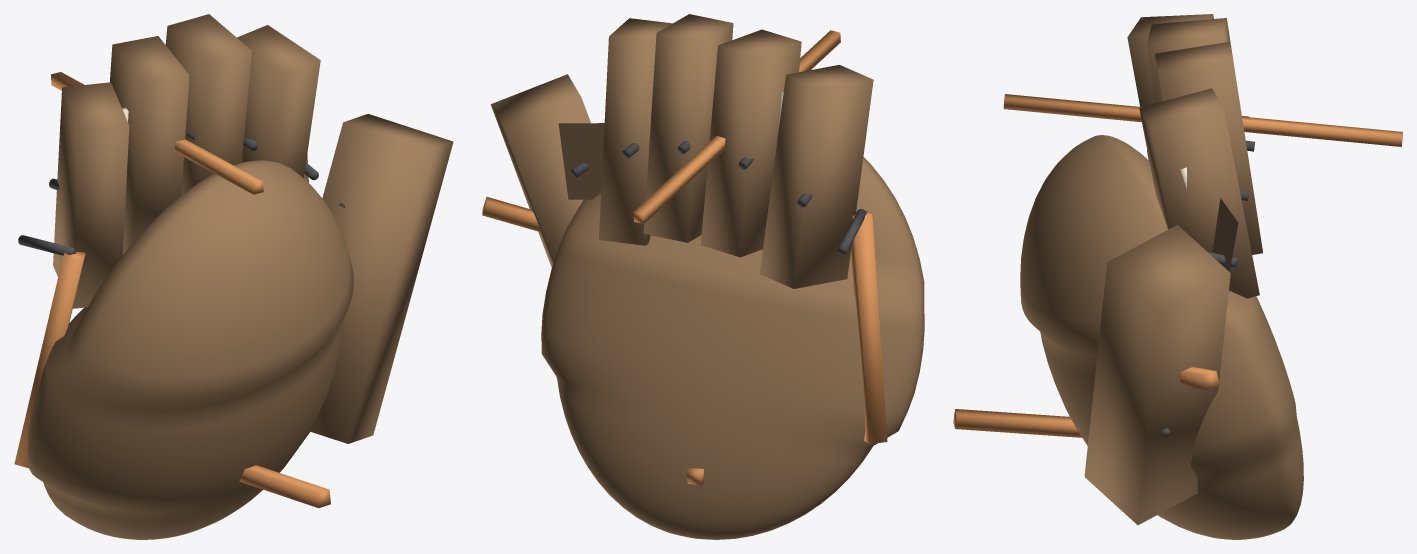
The model's file is glove.glb.
3 renders of one model, left to right at view 1: azimuth 30°, elevation 25°; view 2: azimuth 150°, elevation 25°; view 3: azimuth 270°, elevation 25°, orthographic. The views are drawn at different scales.
Visible parts, largest first — view 1: GloveBody, Thumb, Finger1, Finger2, Finger3, Finger4, Binding_1, Binding_4, Binding_2, Lace_1; view 2: GloveBody, Finger1, Finger2, Finger3, Finger4, Thumb, Binding_1, Web, Binding_4, Binding_3; view 3: GloveBody, Thumb, Finger4, Finger3, Binding_4, Finger2, Binding_2, Finger1, Web, Binding_3.
Part boxes in pixels (left/top/right/bottom): GloveBody: left=27, top=160, right=353, bottom=539; Thumb: left=309, top=114, right=453, bottom=443; Finger1: left=53, top=82, right=129, bottom=308; Finger2: left=110, top=36, right=189, bottom=254; Finger3: left=165, top=14, right=251, bottom=195; Finger4: left=237, top=25, right=320, bottom=177; Binding_1: left=14, top=252, right=85, bottom=468; Binding_4: left=51, top=72, right=263, bottom=194; Binding_2: left=239, top=465, right=330, bottom=508; Lace_1: left=18, top=235, right=75, bottom=255; GloveBody: left=541, top=157, right=924, bottom=539; Finger1: left=759, top=65, right=873, bottom=288; Finger2: left=700, top=29, right=801, bottom=257; Finger3: left=643, top=14, right=733, bottom=242; Finger4: left=599, top=18, right=672, bottom=245; Thumb: left=490, top=74, right=590, bottom=267; Binding_1: left=851, top=211, right=887, bottom=444; Web: left=558, top=123, right=604, bottom=199; Binding_4: left=633, top=30, right=840, bottom=224; Binding_3: left=482, top=197, right=540, bottom=232; GloveBody: left=1020, top=135, right=1303, bottom=539; Thumb: left=1084, top=225, right=1230, bottom=525; Finger4: left=1139, top=88, right=1259, bottom=298; Finger3: left=1155, top=42, right=1262, bottom=254; Binding_4: left=1003, top=94, right=1402, bottom=146; Finger2: left=1146, top=18, right=1232, bottom=103; Binding_2: left=953, top=409, right=1082, bottom=437; Finger1: left=1127, top=14, right=1213, bottom=106; Web: left=1212, top=198, right=1238, bottom=271; Binding_3: left=1179, top=367, right=1219, bottom=389.
Size of the model in its own units: 2.55 by 2.83 by 2.36.
